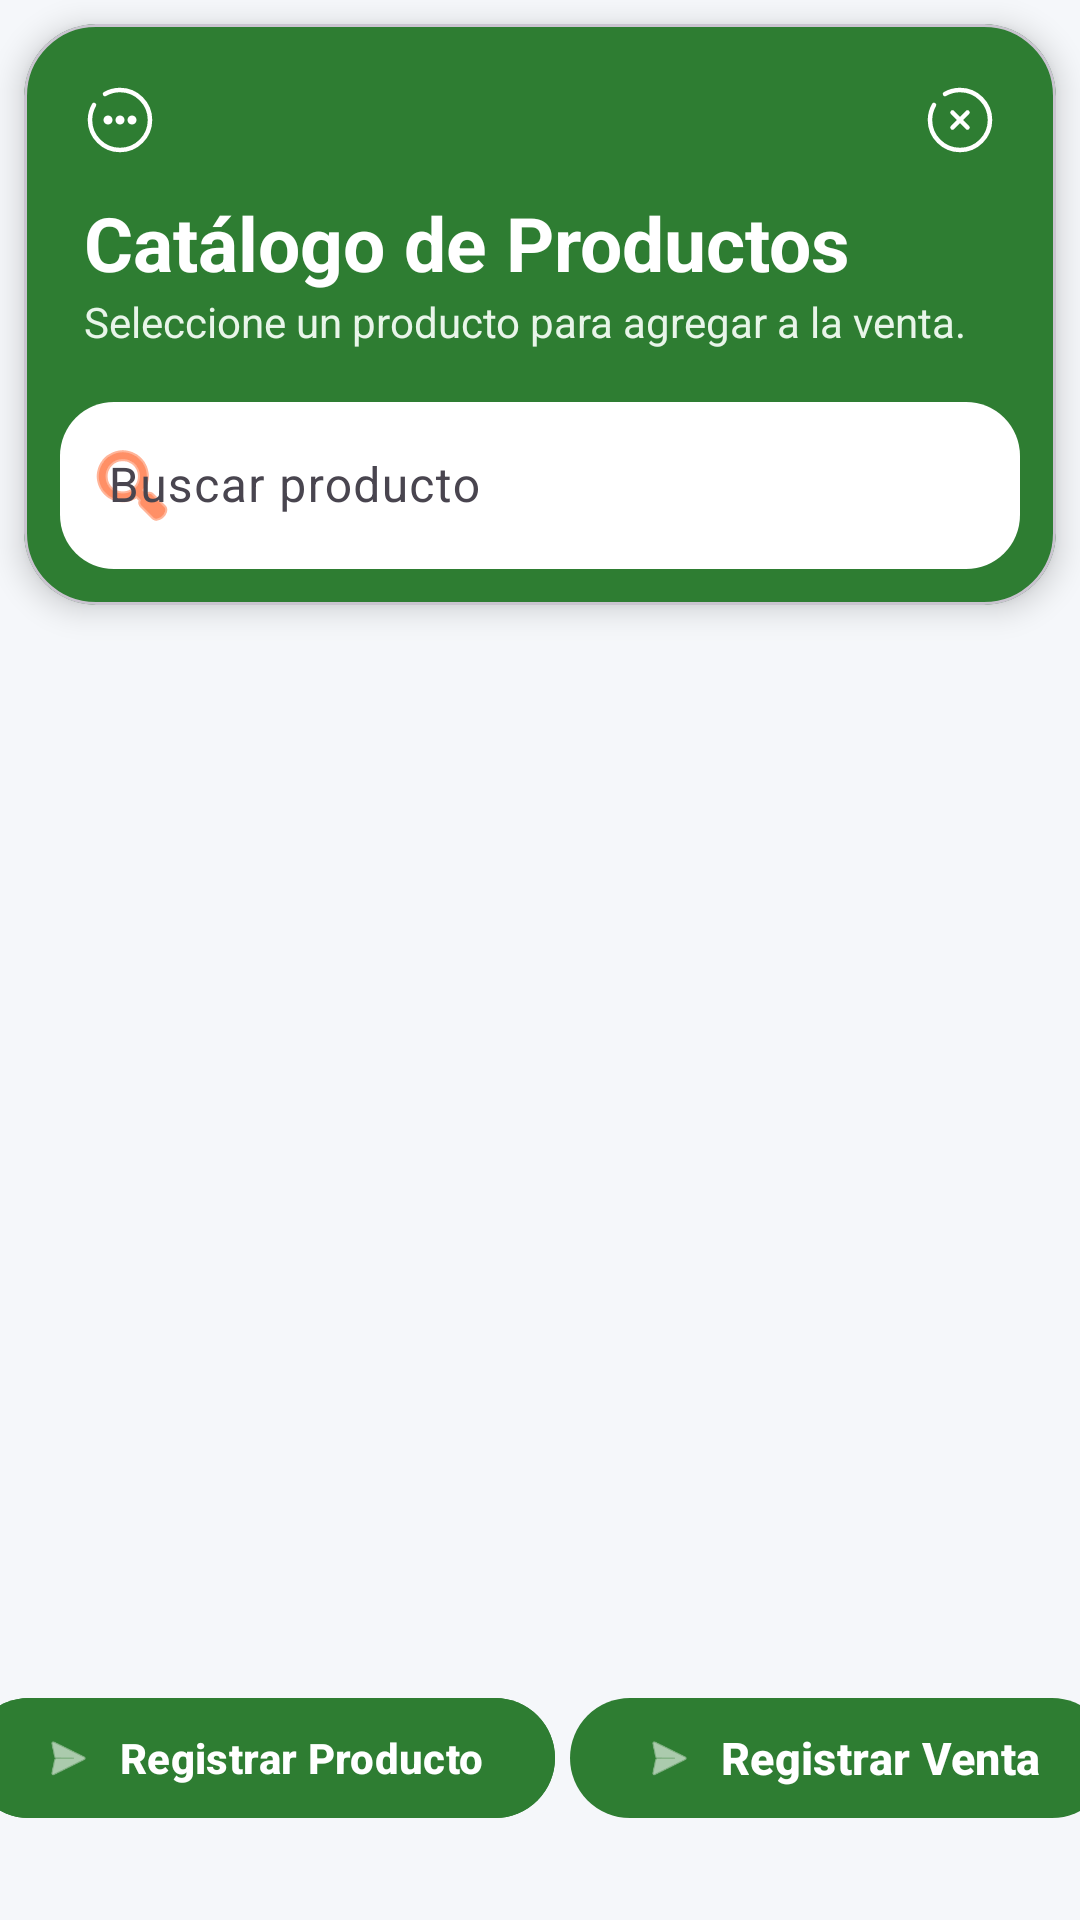

Where to tap for icons on this 1080*1920 app screen, as point (x, y):
close: point (960, 120)
menu: point (120, 120)
